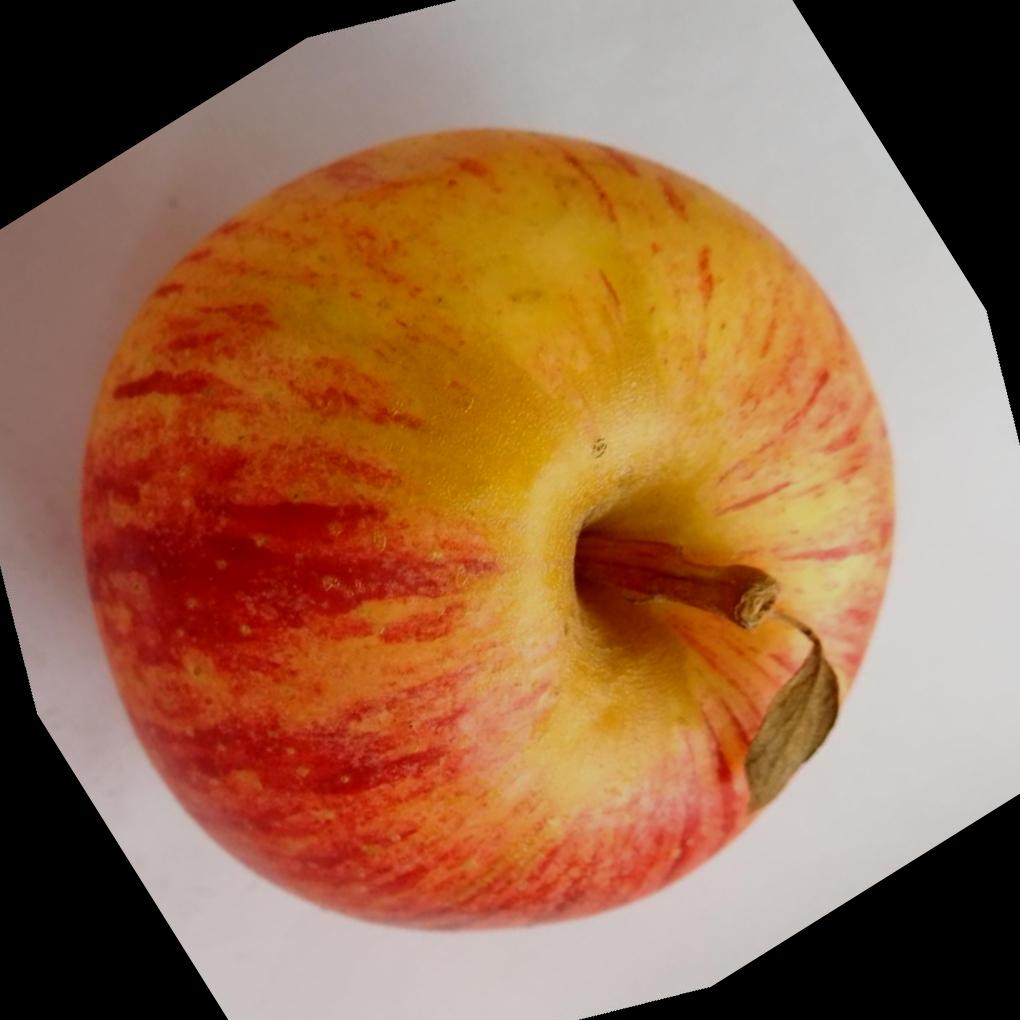FreshGuava: (75, 118, 899, 930)
